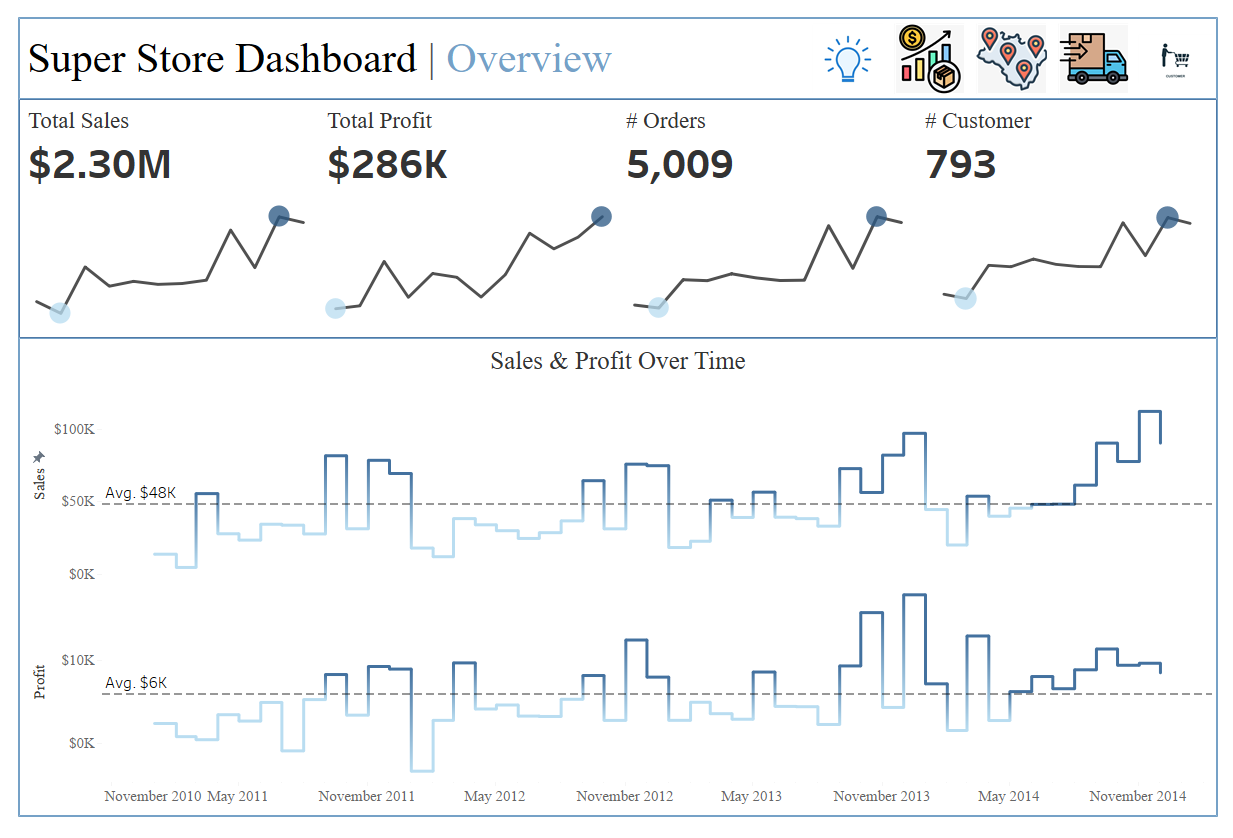

This screenshot's page, from the dashboard's own definition file:
{"tool":"tableau","page":{"name":"Super_Store_Dashboard 0","canvas":[1200,800],"ordinal":0},"visuals":[{"type":"text","box":[2,2,786,79]},{"type":"dashboard-object","box":[788,2,82,79]},{"type":"dashboard-object","box":[870,2,82,79]},{"type":"dashboard-object","box":[952,2,82,79]},{"type":"dashboard-object","box":[1034,2,82,79]},{"type":"dashboard-object","box":[1116,2,82,79]},{"type":"parameter","param":"[Parameters].[Order Year Parameter]","box":[564,15,154,35.9]},{"type":"legend","title":"Sales & Profit Over Time","param":"[federated.1f1h3uc1jm1pvb1bxfcov0sczj9y].[usr:Calculation_1391330877273645061:nk","box":[564,50.9,154,35.9]},{"type":"worksheet","title":"KPI Sales 0","mark":"Line","rows":["Sales","Min/Max Sales (copy)_3207407427292659714"],"cols":["Order Period"],"box":[2,83,299,237]},{"type":"worksheet","title":"KPI Profit 0","mark":"Line","rows":["Profit","Min/Max Sales 0 (copy)_3207407427297476611"],"cols":["Order Period"],"box":[301,83,299,237]},{"type":"worksheet","title":"KPI Orders 0 ","mark":"Automatic","rows":["Order ID","Min/Max Customers (copy)_3207407427299741704"],"cols":["Order Period"],"box":[600,83,299,237]},{"type":"worksheet","title":"KPI Customer 0","mark":"Line","rows":["Customer ID","Min/Max Order 0 (copy)_3207407427302547466"],"cols":["Order Period"],"box":[899,83,299,237]},{"type":"legend","title":"Sales & Profit Over Time","param":"[federated.1f1h3uc1jm1pvb1bxfcov0sczj9y].[usr:KPI Sales Avg (copy)_1391330877274","box":[564,86.7,154,35.9]},{"type":"legend","title":"KPI Sales 0","param":"[federated.1f1h3uc1jm1pvb1bxfcov0sczj9y].[usr:Min/Max Sales (copy)_3207407427292","box":[564,122.6,154,35.9]},{"type":"legend","title":"KPI Profit 0","param":"[federated.1f1h3uc1jm1pvb1bxfcov0sczj9y].[usr:Min/Max Sales 0 (copy)_32074074272","box":[564,158.4,154,35.9]},{"type":"legend","title":"KPI Customer 0","param":"[federated.1f1h3uc1jm1pvb1bxfcov0sczj9y].[usr:Min/Max Order 0 (copy)_32074074273","box":[564,194.3,154,35.9]},{"type":"legend","title":"KPI Orders 0 ","param":"[federated.1f1h3uc1jm1pvb1bxfcov0sczj9y].[usr:Min/Max Customers (copy)_320740742","box":[564,230.1,154,35.9]},{"type":"worksheet","title":"Sales & Profit Over Time","mark":"Line","rows":["Sales","Profit"],"cols":["Order Period"],"box":[2,322,1196,476]}]}

Visuals, with their boxes in screenshot pixels (x1, y1, x2, y2), scaled from the page's 1200x800 canvas onto the 1233x838 screenshot:
text: 2,2,810,85
dashboard-object: 810,2,894,85
dashboard-object: 894,2,978,85
dashboard-object: 978,2,1062,85
dashboard-object: 1062,2,1147,85
dashboard-object: 1147,2,1231,85
parameter: 580,16,738,53
"Sales & Profit Over Time" legend: 580,53,738,91
"KPI Sales 0" worksheet (Line marks): 2,87,309,335
"KPI Profit 0" worksheet (Line marks): 309,87,616,335
"KPI Orders 0 " worksheet: 616,87,924,335
"KPI Customer 0" worksheet (Line marks): 924,87,1231,335
"Sales & Profit Over Time" legend: 580,91,738,128
"KPI Sales 0" legend: 580,128,738,166
"KPI Profit 0" legend: 580,166,738,204
"KPI Customer 0" legend: 580,204,738,241
"KPI Orders 0 " legend: 580,241,738,279
"Sales & Profit Over Time" worksheet (Line marks): 2,337,1231,836
